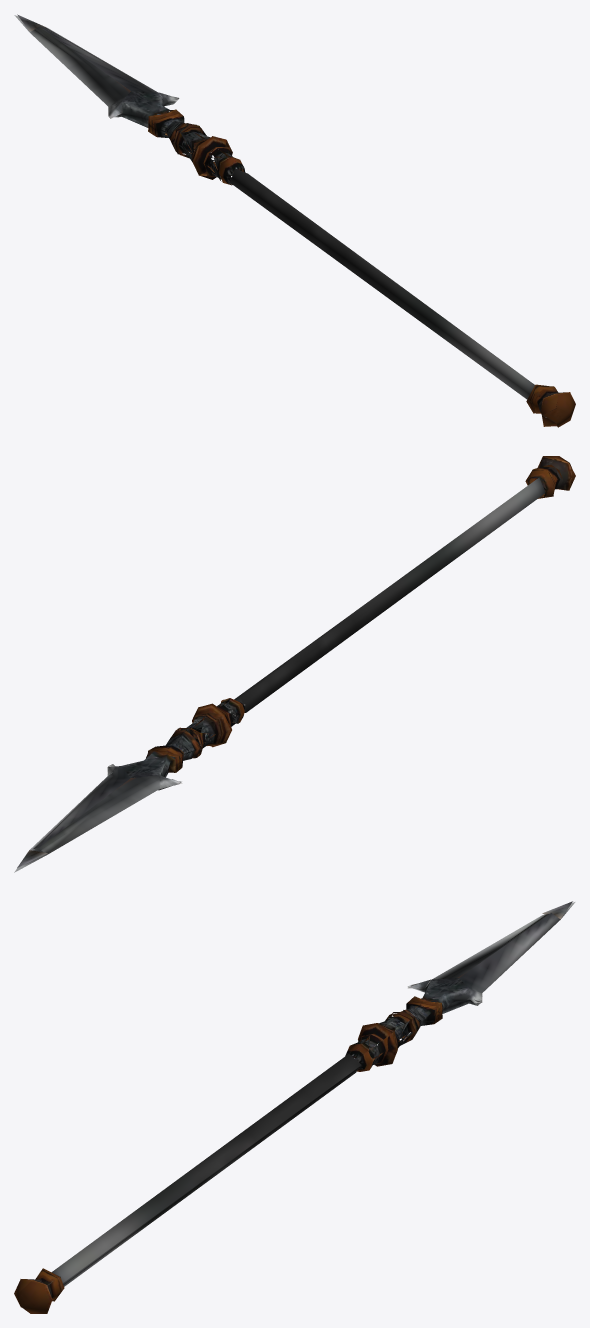
Rendered from g_spear_lod1.fbx.
3 views of the same model, one above another, from view 1: azimuth 30°, elevation 25°; view 2: azimuth 150°, elevation 25°; view 3: azimuth 330°, elevation 25° (orthographic).
Parts seen in each view (by area): view 1: tripo_node_24bc77c4-76c3-4287-a573-65c6fcc6adea; view 2: tripo_node_24bc77c4-76c3-4287-a573-65c6fcc6adea; view 3: tripo_node_24bc77c4-76c3-4287-a573-65c6fcc6adea.
Boxes of the visible parts, box(x1,y1,x2,y2) form: tripo_node_24bc77c4-76c3-4287-a573-65c6fcc6adea: box(14, 14, 575, 427); tripo_node_24bc77c4-76c3-4287-a573-65c6fcc6adea: box(14, 456, 575, 872); tripo_node_24bc77c4-76c3-4287-a573-65c6fcc6adea: box(14, 901, 575, 1313).
Bounding box in the file's own units: 0.1729 × 0.1004 × 2.28.
